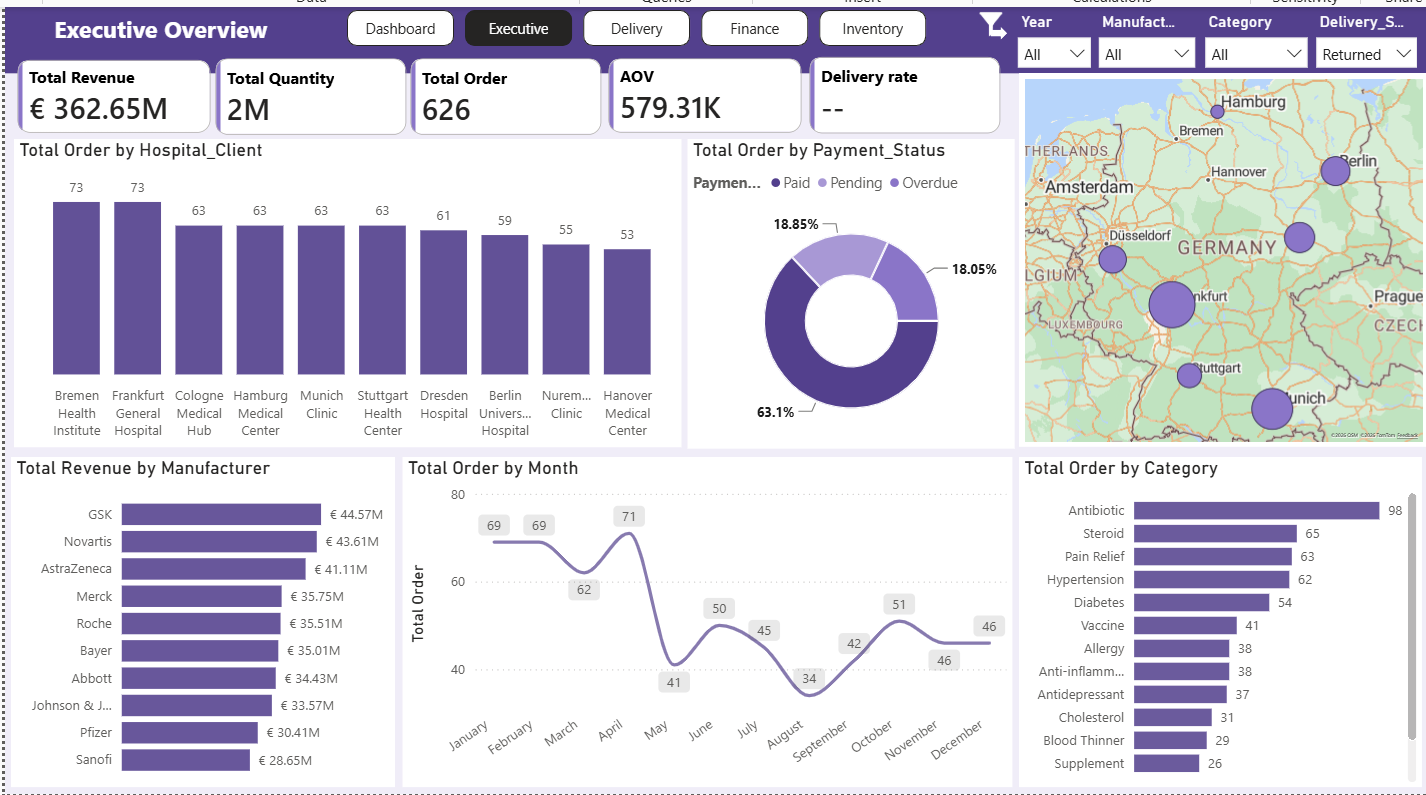

Layout of this report page (visuals, bound fields, positions):
{"tool":"powerbi","page":{"name":"Executive","canvas":[1303,720],"ordinal":1},"visuals":[{"type":"textbox","box":[0,0,1303.1,60.8],"z":0},{"type":"barChart","fields":{"Category":["Pharma_Healthcare_Logistics_Dataset.Category"],"Y":["Messures.Total Order"]},"box":[927.9,411.6,368.4,302.1],"z":1000},{"type":"barChart","fields":{"Category":["Pharma_Healthcare_Logistics_Dataset.Manufacturer"],"Y":["Messures.Total Sales"]},"box":[6.2,411.6,351.4,302.1],"z":2000},{"type":"columnChart","fields":{"Category":["Pharma_Healthcare_Logistics_Dataset.Hospital_Client"],"Y":["Messures.Total Order"]},"box":[7.7,120.2,610.4,282.1],"z":3000},{"type":"donutChart","fields":{"Category":["Pharma_Healthcare_Logistics_Dataset.Payment_Status"],"Y":["Messures.Total Order"]},"box":[624.3,120.2,299,283.6],"z":4000},{"type":"lineChart","fields":{"Y":["Messures.Total Order"],"Category":["Pharma_Healthcare_Logistics_Dataset.Order_Date.Variation.Date Hierarchy.Month"]},"box":[363.8,411.6,558,302.1],"z":5000},{"type":"shape","box":[901.7,18.5,15.4,12.3],"z":6000},{"type":"cardVisual","fields":{"Data":["Messures.Total Quantity"]},"box":[181.4,35.5,197.8,92.5],"z":7000},{"type":"pageNavigator","box":[312.9,3.1,531.8,33.9],"z":8000},{"type":"group","id":"g1","title":"Group 2","box":[881.7,0,420.8,60.1],"z":9000},{"type":"slicer","fields":{"Values":["Pharma_Healthcare_Logistics_Dataset.Order_Date.Variation.Date Hierarchy.Year"]},"box":[917.9,0,86.4,58.6],"z":10000,"group":"g1"},{"type":"cardVisual","fields":{"Data":["Messures.Total Sales"]},"box":[0,37,199.4,89.4],"z":10000},{"type":"slicer","fields":{"Values":["Pharma_Healthcare_Logistics_Dataset.Manufacturer"]},"box":[992.1,0,108,58.6],"z":11000,"group":"g1"},{"type":"azureMap","fields":{"Category":["Pharma_Healthcare_Logistics_Dataset.City"],"Size":["Messures.Total Sales"]},"box":[927.9,60.1,374.6,342.2],"z":11000},{"type":"slicer","fields":{"Values":["Pharma_Healthcare_Logistics_Dataset.Category"]},"box":[1089.3,0,113.4,58.6],"z":12000,"group":"g1"},{"type":"cardVisual","fields":{"Data":["Messures.Total Order"]},"box":[359.6,35.5,197.8,92.5],"z":12000},{"type":"slicer","fields":{"Values":["Pharma_Healthcare_Logistics_Dataset.Delivery_Status"]},"box":[1190.5,0,112,60.1],"z":13000,"group":"g1"},{"type":"cardVisual","fields":{"Data":["Messures.AOV"]},"box":[541,35.5,199.4,90.9],"z":13000},{"type":"cardVisual","fields":{"Data":["Messures.dly rate"]},"box":[724,33.9,197.8,92.5],"z":14000},{"type":"image","box":[881.7,0,41.4,33.8],"z":15000,"group":"g1"}]}

Visuals, with their boxes on the page's 1303x720 design canvas (x1, y1, x2, y2). These are canvas units, not pixel positions in the 1426x795 screenshot, which may show the page scaled, cropped or inside an application window:
textbox: (0, 0, 1303, 61)
barChart - Pharma_Healthcare_Logistics_Dataset.Category x Messures.Total Order: (928, 412, 1296, 714)
barChart - Pharma_Healthcare_Logistics_Dataset.Manufacturer x Messures.Total Sales: (6, 412, 358, 714)
columnChart - Pharma_Healthcare_Logistics_Dataset.Hospital_Client x Messures.Total Order: (8, 120, 618, 402)
donutChart - Pharma_Healthcare_Logistics_Dataset.Payment_Status x Messures.Total Order: (624, 120, 923, 404)
lineChart - Messures.Total Order x Pharma_Healthcare_Logistics_Dataset.Order_Date.Variation.Date Hierarchy.Month: (364, 412, 922, 714)
shape: (902, 18, 917, 31)
cardVisual - Messures.Total Quantity: (181, 36, 379, 128)
pageNavigator: (313, 3, 845, 37)
"Group 2" group: (882, 0, 1302, 60)
slicer - Pharma_Healthcare_Logistics_Dataset.Order_Date.Variation.Date Hierarchy.Year: (918, 0, 1004, 59)
cardVisual - Messures.Total Sales: (0, 37, 199, 126)
slicer - Pharma_Healthcare_Logistics_Dataset.Manufacturer: (992, 0, 1100, 59)
azureMap - Pharma_Healthcare_Logistics_Dataset.City x Messures.Total Sales: (928, 60, 1302, 402)
slicer - Pharma_Healthcare_Logistics_Dataset.Category: (1089, 0, 1203, 59)
cardVisual - Messures.Total Order: (360, 36, 557, 128)
slicer - Pharma_Healthcare_Logistics_Dataset.Delivery_Status: (1190, 0, 1302, 60)
cardVisual - Messures.AOV: (541, 36, 740, 126)
cardVisual - Messures.dly rate: (724, 34, 922, 126)
image: (882, 0, 923, 34)
